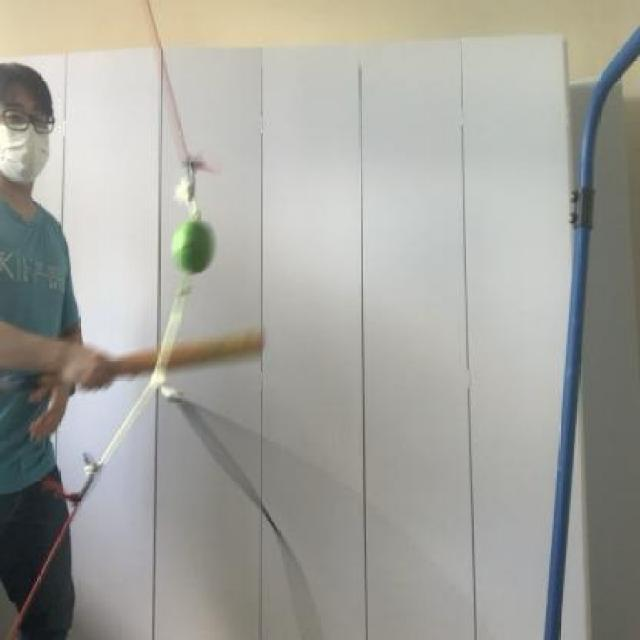baseball: (164, 212, 219, 274)
